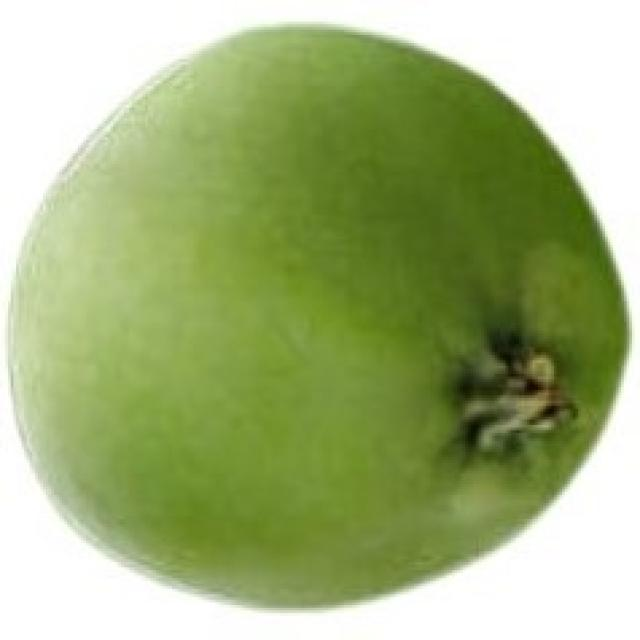50-_ripeness: (5, 23, 637, 608)
